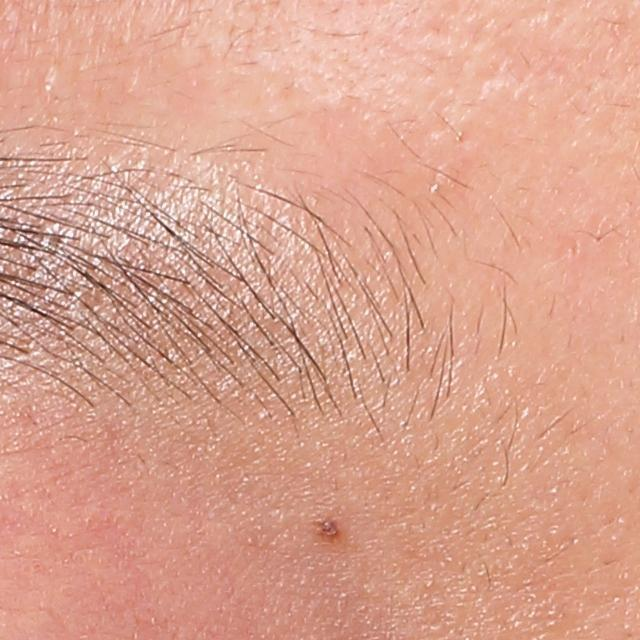nevus: (318, 519, 346, 541)
